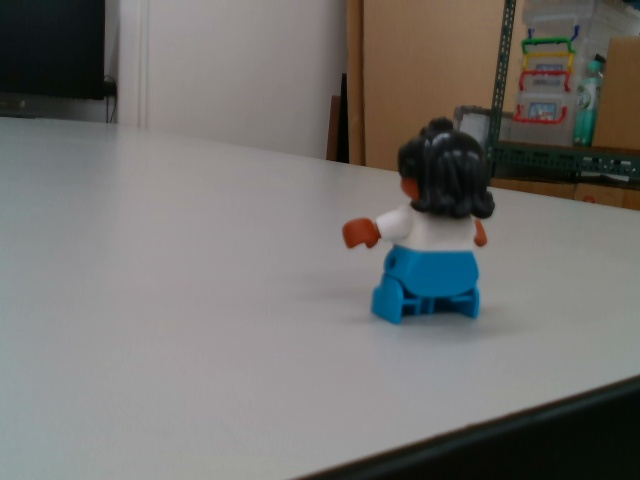people: (340, 116, 500, 323)
